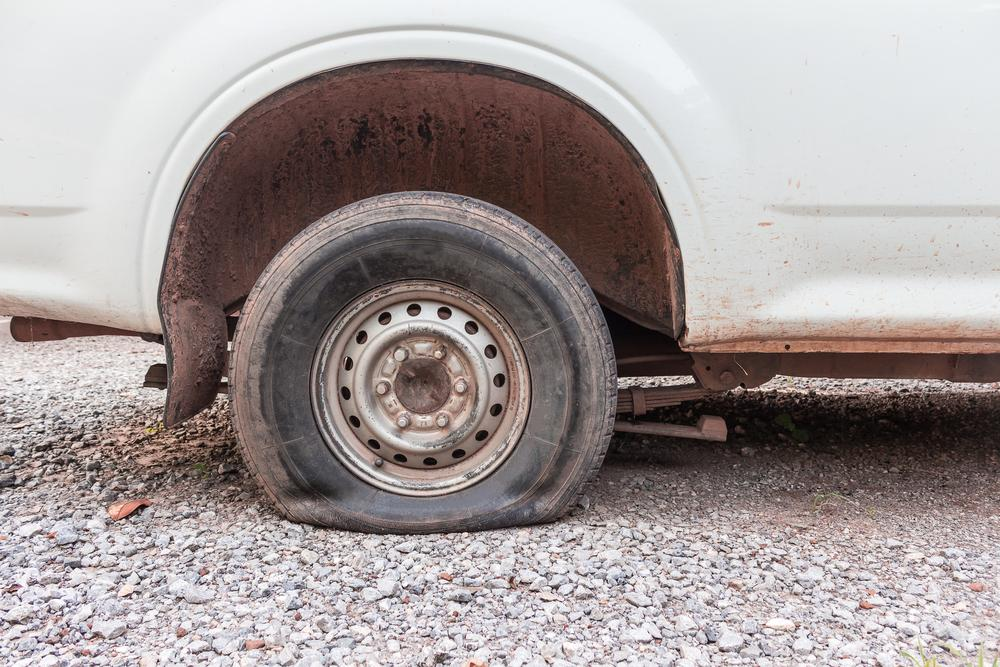tire flat: (233, 189, 617, 535)
